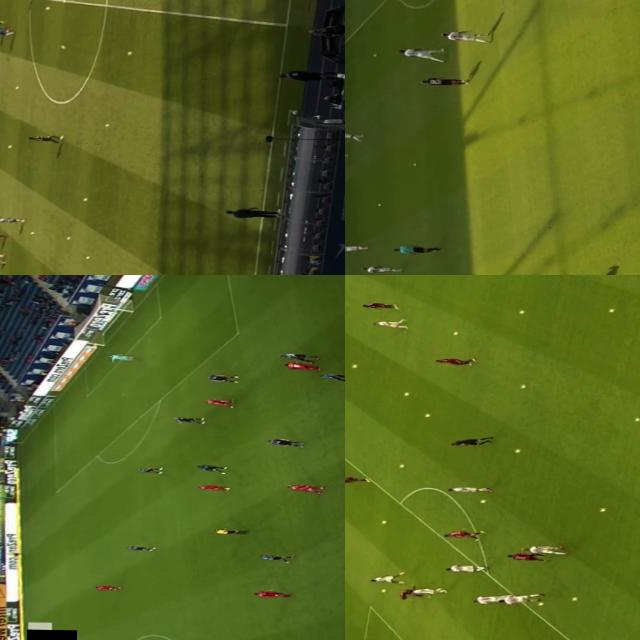ball: (510, 448, 520, 454), (449, 331, 459, 336), (348, 363, 358, 368), (476, 499, 486, 504), (568, 597, 580, 601), (377, 588, 386, 593), (604, 308, 614, 312), (400, 392, 410, 396), (422, 413, 430, 418), (534, 601, 542, 606), (4, 145, 12, 149), (124, 50, 132, 54), (516, 310, 524, 314), (398, 464, 406, 468), (82, 255, 88, 260), (56, 46, 65, 49), (102, 123, 110, 126), (368, 52, 374, 56), (408, 162, 414, 166), (518, 384, 524, 388), (632, 417, 638, 421), (379, 519, 384, 523), (597, 508, 602, 512), (27, 231, 32, 234), (374, 204, 379, 206), (12, 86, 16, 88)
player: (398, 46, 444, 62), (442, 31, 488, 44), (498, 592, 541, 604), (281, 361, 319, 374), (440, 530, 488, 540), (204, 372, 238, 386), (418, 76, 464, 86), (287, 482, 325, 494), (264, 436, 302, 448), (276, 352, 316, 363), (252, 588, 288, 600), (471, 594, 507, 606), (200, 395, 232, 408), (527, 545, 564, 555), (194, 464, 230, 474), (190, 484, 230, 493), (434, 358, 472, 367), (256, 554, 290, 564), (358, 302, 400, 310), (369, 573, 406, 582), (445, 564, 482, 573), (363, 265, 399, 274), (27, 134, 65, 142), (170, 416, 208, 424), (105, 352, 135, 362), (318, 372, 345, 383), (372, 320, 409, 328), (398, 588, 420, 601), (410, 586, 444, 594), (448, 486, 488, 492), (505, 554, 543, 560), (132, 467, 164, 474), (124, 544, 152, 552), (345, 243, 364, 252), (92, 584, 118, 590), (345, 476, 367, 483), (345, 130, 360, 139), (0, 28, 11, 38), (0, 218, 22, 222), (0, 254, 7, 263), (62, 236, 70, 241), (41, 6, 50, 10), (80, 198, 88, 202)
